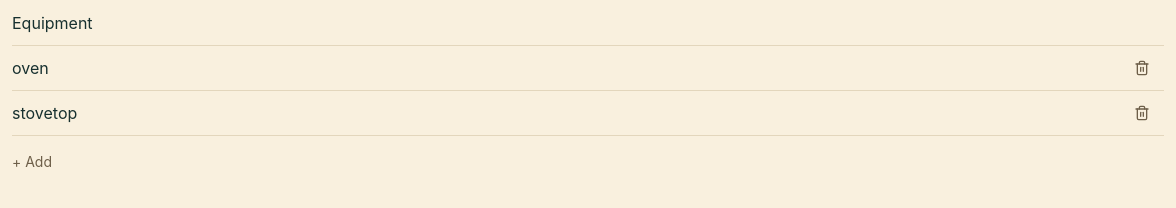
Test: ListSettingRow › says so and keeps the item when a delete fails
Step 1. Click the button named "Remove oven from equipment" → [1142, 68], box [1120,46,1164,90]
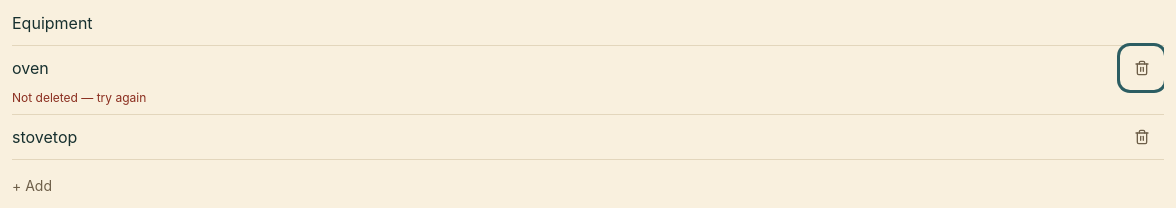
Expected: the message reads "Not deleted — try again", [12,90,146,105]
